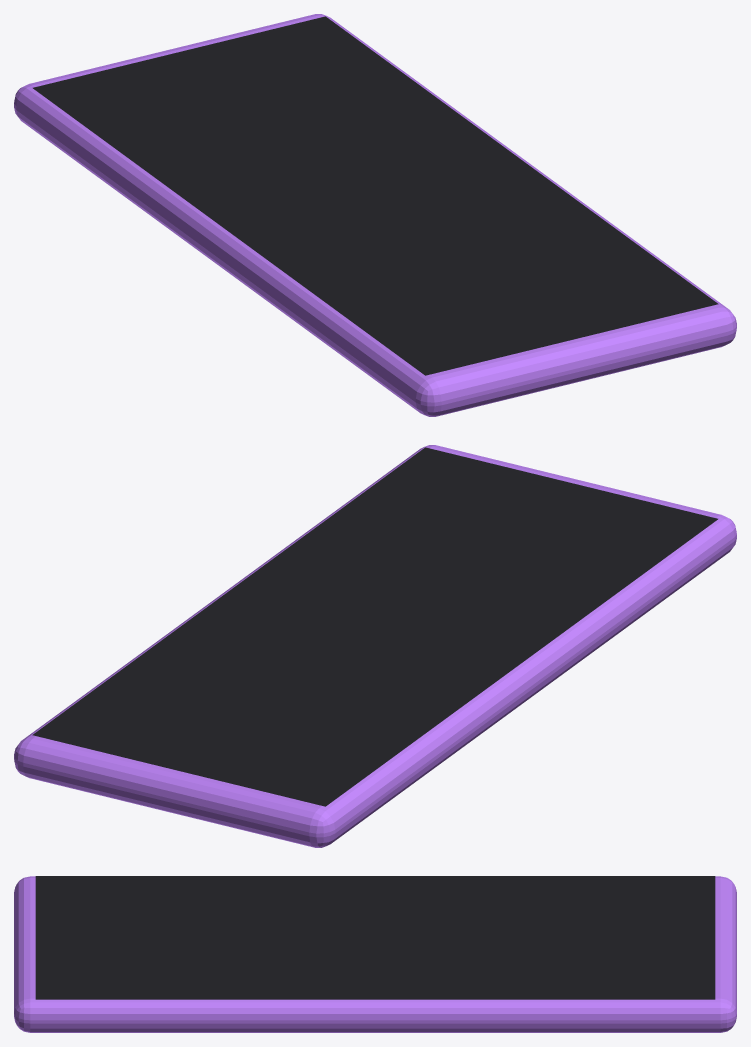
Rendered from Phone_698.glb.
3 renders of one model, top to bottom at view 1: azimuth 30°, elevation 25°; view 2: azimuth 150°, elevation 25°; view 3: azimuth 270°, elevation 25°, orthographic. The views are drawn at different scales.
Visible parts, largest first — view 1: Phone_Screen, Phone_Body; view 2: Phone_Screen, Phone_Body; view 3: Phone_Screen, Phone_Body.
Boxes of the visible parts, box(x1,y1,x2,y2) form: Phone_Screen: box(33, 16, 718, 375); Phone_Body: box(14, 14, 736, 416); Phone_Screen: box(32, 447, 717, 806); Phone_Body: box(14, 445, 736, 847); Phone_Screen: box(35, 876, 715, 999); Phone_Body: box(14, 876, 736, 1032).
Bounding box in the file's own units: 0.0721 × 0.0083 × 0.1638.
